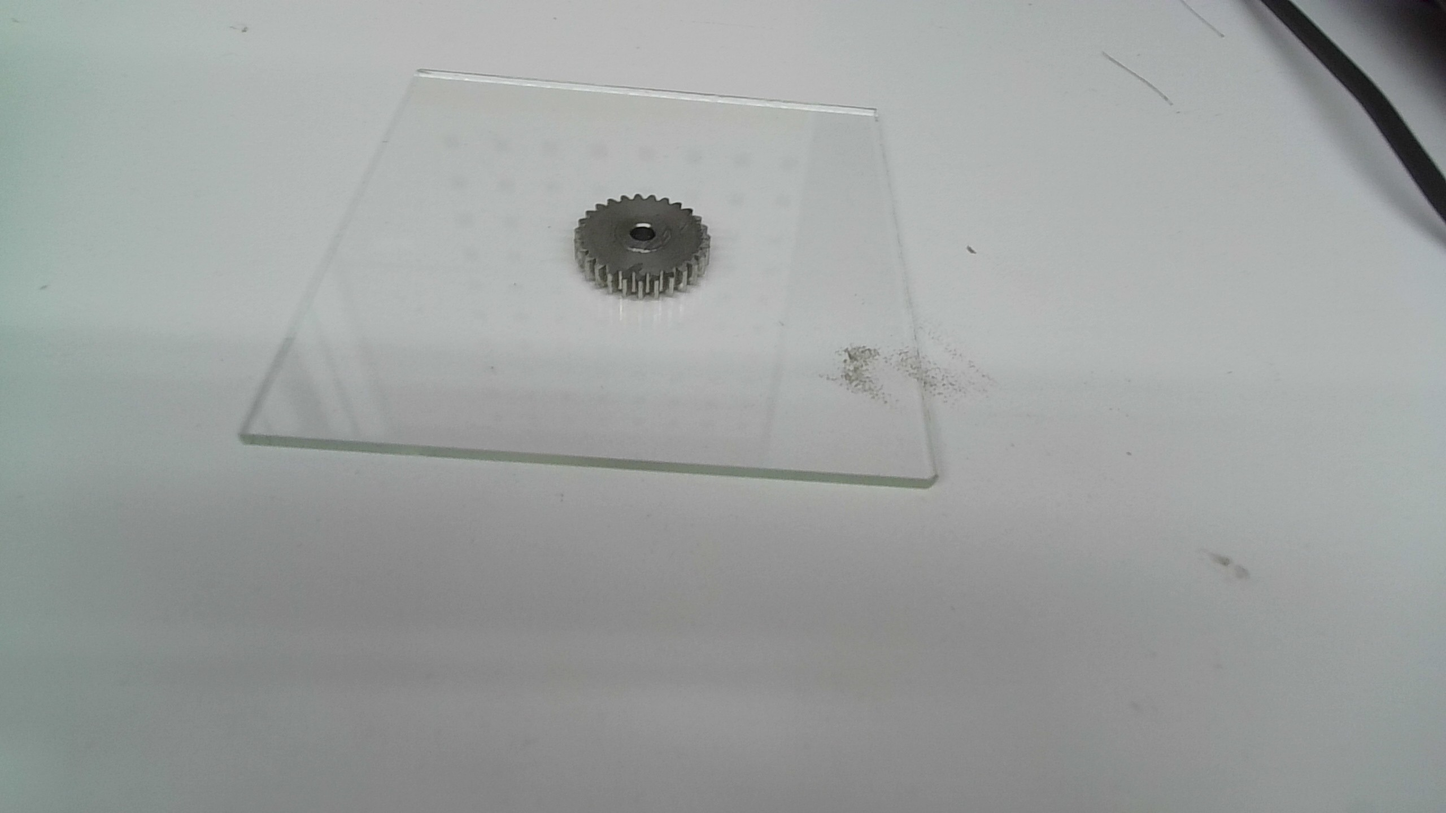gear: (572, 192, 715, 303)
